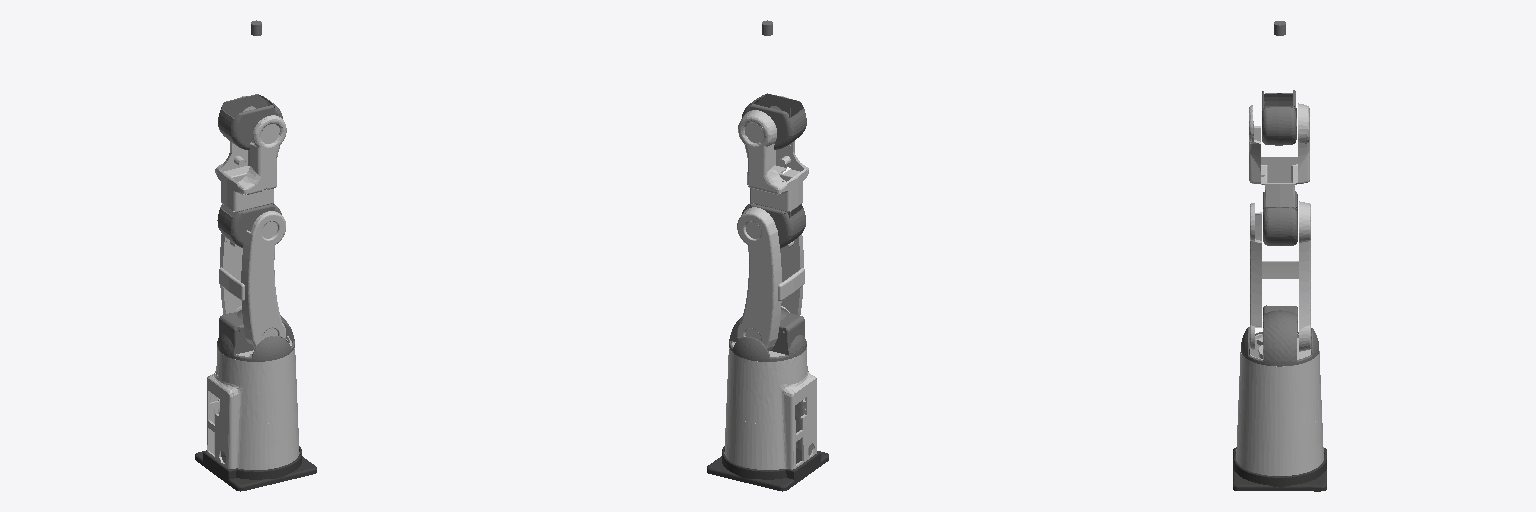
robot.urdf — ve026a:
<?xml version="1.0"?>
<robot name="ve026a" xmlns:xacro="http://ros.org/wiki/xacro">
	<link name="base_link">
		<visual>
			<geometry>
				<mesh filename="package://denso_ve026a/meshes/base.stl" scale="1 1 1"/>
			</geometry>
			<origin xyz="-0.000283 -0.001865 0"/>
			<material name="base_link">
	        	<color rgba="0.3 0.3 0.3 1"/>
			</material>
    	</visual>
      	<inertial>
      		<mass value="0.1"/>
      		<inertia ixx="1.0" ixy="0.0" ixz="0.0" iyy="1.0" iyz="0.0" izz="1.0"/>
    	</inertial>
  	</link>
	
	<link name="link0">
		<visual>
		  	<geometry>
		    	<mesh filename="package://denso_ve026a/meshes/l0.stl" scale="1 1 1"/>
		  	</geometry>
		  	<origin xyz="-0.000283 -0.001865 0"/>
		  	<material name="link">
		    	<color rgba="0.8 0.8 0.8 1"/>
		  	</material>
		</visual>
      	<inertial>
      		<mass value="0.1"/>
      		<inertia ixx="1.0" ixy="0.0" ixz="0.0" iyy="1.0" iyz="0.0" izz="1.0"/>
    	</inertial>
	</link>
	
	
	<joint name="J0" type="fixed">
		<axis xyz="0 0 1"/>
		<origin rpy="0 0 0" xyz="0.0 0.0 0.0"/>
		<parent link="base_link"/>
		<child link="link0"/>
	</joint>
	
	<link name="link1">
    	<visual>
      		<geometry>
		    	<mesh filename="package://denso_ve026a/meshes/l1.stl" scale="1 1 1"/>
			</geometry>
			<origin xyz="-0.000283 -0.001865 0"/>
			<material name="joint">
        		<color rgba="0.5 0.5 0.5 1"/>
      		</material>
    	</visual>
      	<inertial>
      		<mass value="0.1"/>
      		<inertia ixx="1.0" ixy="0.0" ixz="0.0" iyy="1.0" iyz="0.0" izz="1.0"/>
    	</inertial>
  	</link>
	<joint name="J1" type="revolute">
    	<axis xyz="0 0 1"/>
    	<limit effort="1000.0" lower="-1.39626" upper="1.83259" velocity="3.0"/>
    	<origin rpy="0 0 0" xyz="0.0 0.0 0.0"/>
    	<parent link="link0"/>
    	<child link="link1"/>
  	</joint>
  	
  	<link name="link2">
    	<visual>
      		<geometry>
				<mesh filename="package://denso_ve026a/meshes/l2.stl" scale="1 1 1"/>
			</geometry>
			<origin xyz="-0.000283 -0.001865 -0.130"/>
			<material name="link"/>
    	</visual>
      	<inertial>
      		<mass value="0.1"/>
      		<inertia ixx="1.0" ixy="0.0" ixz="0.0" iyy="1.0" iyz="0.0" izz="1.0"/>
    	</inertial>
  	</link>
  
  	<joint name="J2" type="revolute">
    	<axis xyz="0 1 0"/>
    	<limit effort="1000.0" lower="-0.61086" upper="1.57075" velocity="3.0"/>
    	<origin rpy="0 0 0" xyz="0.0 0.0 0.130"/>
    	<parent link="link1"/>
    	<child link="link2"/>
  	</joint>
  	
  	<link name="link3">
    	<visual>
      		<geometry>
				<mesh filename="package://denso_ve026a/meshes/l3.stl" scale="1 1 1"/>
			</geometry>
			<origin xyz="-0.000283 -0.001865 -0.230"/>
			<material name="joint"/>
    	</visual>
      	<inertial>
      		<mass value="0.1"/>
      		<inertia ixx="1.0" ixy="0.0" ixz="0.0" iyy="1.0" iyz="0.0" izz="1.0"/>
    	</inertial>
  	</link>
 	
 	<joint name="J3" type="revolute">
	    <axis xyz="0 1 0"/>
    	<limit effort="1000.0" lower="-1.30899" upper="2.35619" velocity="3.0"/>
    	<origin rpy="0 0 0" xyz="0.0 0.0 0.100"/>
	    <parent link="link2"/>
    	<child link="link3"/>
	</joint>
	
	<link name="link4">
    	<visual>
    		<geometry>
				<mesh filename="package://denso_ve026a/meshes/l4.stl" scale="1 1 1"/>
			</geometry>
			<origin xyz="-0.000283 -0.001865 -0.248"/>
			<material name="link"/>
    	</visual>
      	<inertial>
      		<mass value="0.1"/>
      		<inertia ixx="1.0" ixy="0.0" ixz="0.0" iyy="1.0" iyz="0.0" izz="1.0"/>
    	</inertial>
	</link>
  
	<joint name="J4" type="revolute">
		<axis xyz="0 0 1"/>
		<limit effort="1000.0" lower="-2.44346" upper="2.44346" velocity="3.0"/>
		<origin rpy="0 0 0" xyz="0.0 0.0 0.018"/>
		<parent link="link3"/>
    	<child link="link4"/>
	</joint>

	<link name="link5">
		<visual>
			<geometry>
				<mesh filename="package://denso_ve026a/meshes/l5.stl" scale="1 1 1"/>
			</geometry>
			<origin xyz="-0.000283 -0.001865 -0.320"/>
			<material name="joint"/>
		</visual>
      	<inertial>
      		<mass value="0.1"/>
      		<inertia ixx="1.0" ixy="0.0" ixz="0.0" iyy="1.0" iyz="0.0" izz="1.0"/>
    	</inertial>
	</link>
 	
	<joint name="J5" type="revolute">
		<axis xyz="0 1 0"/>
		<limit effort="1000.0" lower="-1.57075" upper="1.83259" velocity="3.0"/>
		<origin rpy="0 0 0" xyz="0.0 0.0 0.075"/>
		<parent link="link4"/>
		<child link="link5"/>
	</joint>
	
	<link name="link6">
		<visual>
			<geometry>
				<mesh filename="package://denso_ve026a/meshes/l6.stl" scale="1 1 1"/>
			</geometry>
			<origin xyz="-0.000283 -0.001865 -0.338"/>
			<material name="link"/>
		</visual>
     	<inertial>
      		<mass value="0.1"/>
      		<inertia ixx="1.0" ixy="0.0" ixz="0.0" iyy="1.0" iyz="0.0" izz="1.0"/>
    	</inertial>
	</link>
  
	<joint name="J6" type="revolute">
		<axis xyz="0 0 1"/>
		<limit effort="1000.0" lower="-2.44346" upper="2.44346" velocity="3.0"/>
		<origin rpy="0 0 0" xyz="0.0 0.0 0.018"/>
		<parent link="link5"/>
		<child link="link6"/>
	</joint>
	
	<link name="link7">
		<visual>
			<geometry>
				<cylinder length="0.010" radius="0.005"/>
			</geometry>
			<origin xyz="0 0 0"/>
			<material name="joint"/>
		</visual>	
      	<inertial>
      		<mass value="0.1"/>
      		<inertia ixx="1.0" ixy="0.0" ixz="0.0" iyy="1.0" iyz="0.0" izz="1.0"/>
    	</inertial>
	</link>

	<joint name="J7" type="revolute">
		<axis xyz="0 0 1"/>
		<limit effort="1000.0" lower="-0.63633" upper="0.43633" velocity="3.0"/> 
		<origin rpy="0 0 0" xyz="0.0 0.0 0.068"/>
		<parent link="link6"/>
		<child link="link7"/>
	</joint>
	
<!--  
  	
	

  
	
  
	<link name="link5">
		<visual>
			<geometry>
				<box size="0.050 0.030 0.068"/>
			</geometry>
			<origin xyz="0 0 0.034"/>
			<material name="link"/>
		</visual>
		<collision>
			<geometry>
				<box size="0.050 0.030 0.068"/>
			</geometry>
			<origin xyz="0 0 0.034"/>
      	</collision>
      	<inertial>
      		<mass value="0.1"/>
      		<inertia ixx="1.0" ixy="0.0" ixz="0.0" iyy="1.0" iyz="0.0" izz="1.0"/>
    	</inertial>
	</link>
  
	<joint name="J6" type="revolute">
		<axis xyz="0 0 1"/>
		<limit effort="1000.0" lower="-2.44346" upper="2.44346" velocity="3.0"/>
		<origin rpy="0 0 0" xyz="0.0 0.0 0.020"/>
		<parent link="link4"/>
		<child link="link5"/>
	</joint>

	<link name="link6">
		<visual>
			<geometry>
				<box size="0.050 0.030 0.010"/>
			</geometry>
			<origin xyz="0 0 0.005"/>
			<material name="joint"/>
		</visual>
		<collision>
			<geometry>
				<box size="0.050 0.030 0.010"/>
			</geometry>
			<origin xyz="0 0 0.005"/>
      	</collision>
      	<inertial>
      		<mass value="0.1"/>
      		<inertia ixx="1.0" ixy="0.0" ixz="0.0" iyy="1.0" iyz="0.0" izz="1.0"/>
    	</inertial>
	</link>

	<joint name="J7" type="fixed">
		<axis xyz="0 0 1"/>
		<limit effort="1000.0" lower="-1.30899" upper="0.43633" velocity="3.0"/> 
		<origin rpy="0 0 0" xyz="0.0 0.0 0.068"/>
		<parent link="link5"/>
		<child link="link6"/>
	</joint>

	<link name="gripper_left">
		<visual>
			<geometry>
				<box size="0.020 0.002 0.030"/>
			</geometry>
			<origin xyz="0 0 0.025"/>
			<material name="gripper">
				<color rgba="0.8 0.8 0.3 1"/>
			</material>
		</visual>
		<collision>
			<geometry>
				<box size="0.020 0.002 0.030"/>
			</geometry>
			<origin xyz="0 0 0.025"/>
      	</collision>
      	<inertial>
      		<mass value="0.1"/>
      		<inertia ixx="1.0" ixy="0.0" ixz="0.0" iyy="1.0" iyz="0.0" izz="1.0"/>
    	</inertial>
	</link>

	<joint name="J7_left" type="prismatic">
		<axis xyz="0 1 0"/>
		<limit effort="1000.0" lower="0.013" upper="0.0215" velocity="3.0"/>
		<origin rpy="0 0 0" xyz="0.0 0.0 0.0"/>
		<parent link="link6"/>
		<child link="gripper_left"/>
	</joint>

	<link name="gripper_right">
		<visual>
			<geometry>
				<box size="0.020 0.002 0.030"/>
			</geometry>
			<origin xyz="0 0 0.025"/>
			<material name="gripper"/>
		</visual>
		<collision>
			<geometry>
				<box size="0.020 0.002 0.030"/>
			</geometry>
			<origin xyz="0 0 0.025"/>
      	</collision>
      	<inertial>
      		<mass value="0.1"/>
      		<inertia ixx="1.0" ixy="0.0" ixz="0.0" iyy="1.0" iyz="0.0" izz="1.0"/>
    	</inertial>
	</link>

	<joint name="J7_right" type="prismatic">
		<axis xyz="0 1 0"/>
		<limit effort="1000.0" lower="-0.013" upper="-0.0215" velocity="3.0"/>
		<origin rpy="0 0 0" xyz="0.0 0.0 0.0"/>
		<parent link="link6"/>
		<child link="gripper_right"/>
	</joint>
-->
</robot>

--- Render facts (derived) ---
The picture shows the robot from 3 angles, left to right: view 1: azimuth 30°, elevation 25°; view 2: azimuth 150°, elevation 25°; view 3: azimuth 270°, elevation 25°; orthographic projection.
Model ve026a with 9 links and 8 joints (7 revolute, 1 fixed), rooted at base_link, posed every joint at zero.
Links seen in each view (by area): view 1: link0, link2, link4, link1, base_link, link5, link3; view 2: link0, link2, link4, base_link, link1, link5, link3; view 3: link0, link2, link4, link1, base_link, link5, link3.
Boxes of the visible links, bbox=[...] form: link0: bbox=[207, 336, 299, 469]; link2: bbox=[219, 208, 285, 348]; link4: bbox=[215, 96, 286, 211]; link1: bbox=[217, 310, 294, 361]; base_link: bbox=[195, 446, 316, 491]; link5: bbox=[218, 94, 282, 150]; link3: bbox=[217, 203, 281, 247]; link0: bbox=[724, 341, 816, 469]; link2: bbox=[737, 207, 804, 350]; link4: bbox=[738, 96, 808, 211]; base_link: bbox=[707, 446, 828, 491]; link1: bbox=[729, 309, 806, 361]; link5: bbox=[742, 93, 806, 149]; link3: bbox=[742, 203, 805, 248]; link0: bbox=[1236, 333, 1323, 475]; link2: bbox=[1250, 201, 1310, 351]; link4: bbox=[1249, 103, 1309, 207]; link1: bbox=[1241, 305, 1318, 366]; base_link: bbox=[1233, 447, 1326, 491]; link5: bbox=[1262, 90, 1296, 145]; link3: bbox=[1263, 191, 1297, 245].
Bounding box of the posed robot: 0.0793 × 0.0794 × 0.4142 m (x, y, z).
7 mesh visuals loaded from 8 distinct referenced files (7 binary STL); not drawn: 1 (reference not matched to a file when rendering).